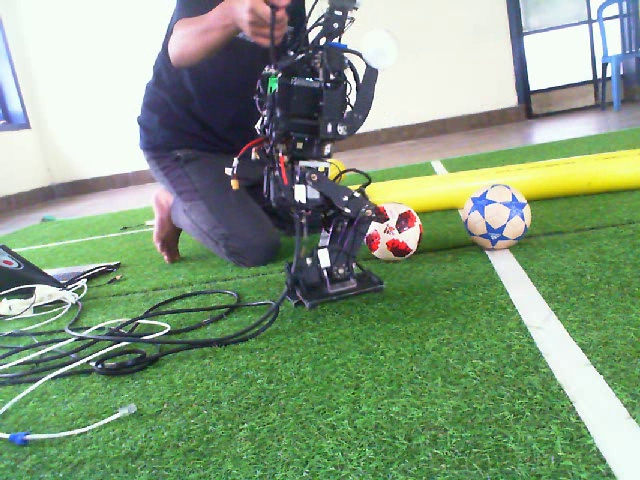ball: (462, 180, 534, 252), (364, 200, 425, 265)
